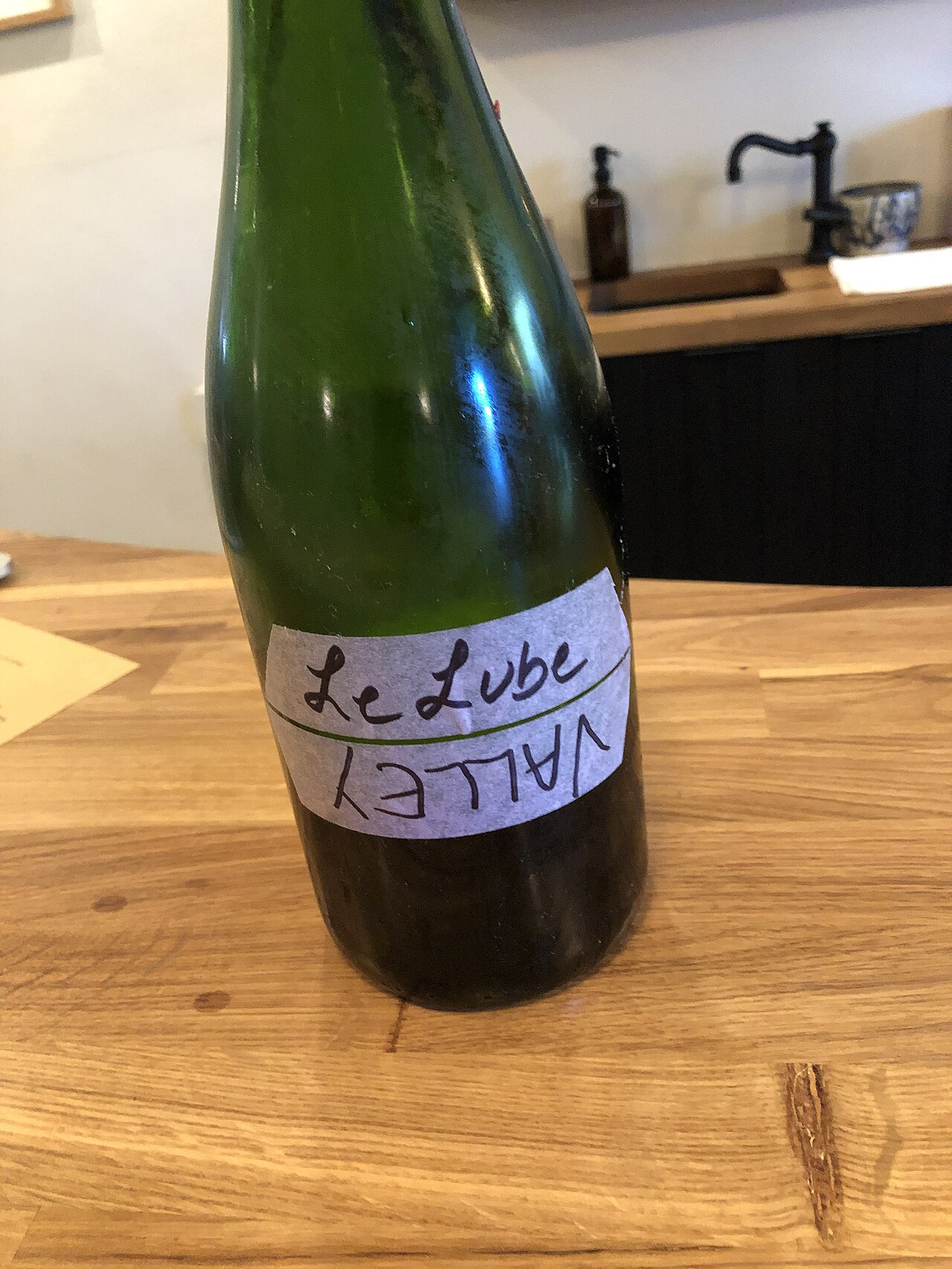unknown_bottle: (205, 7, 648, 1013), (583, 145, 631, 283)
